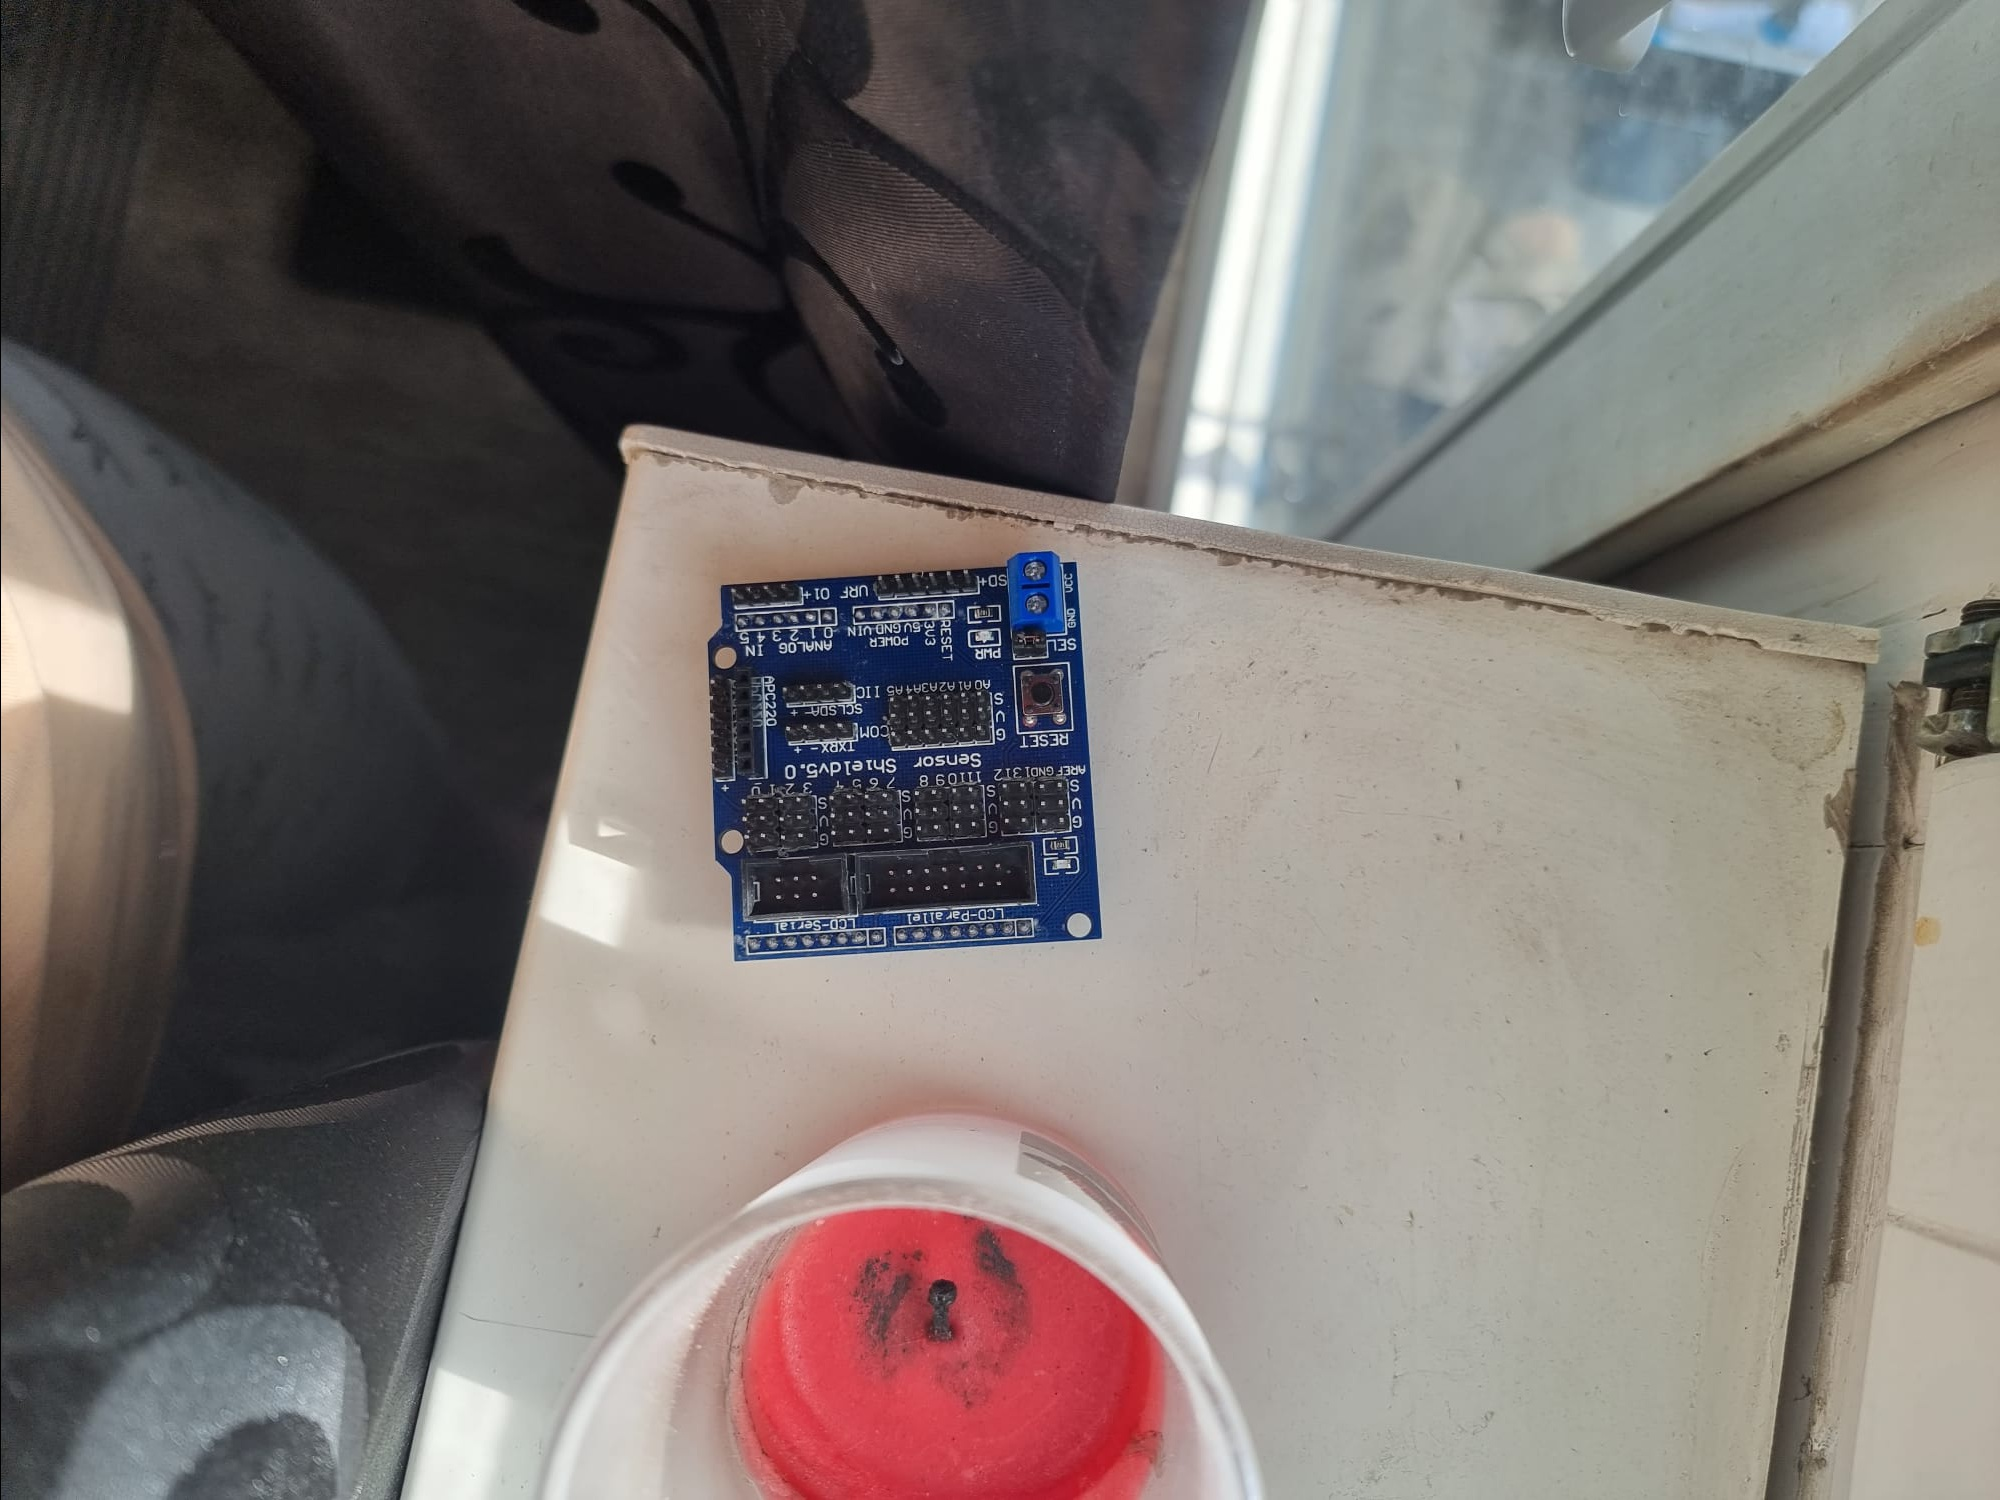5V EXPANSION: (694, 561, 1106, 978)
